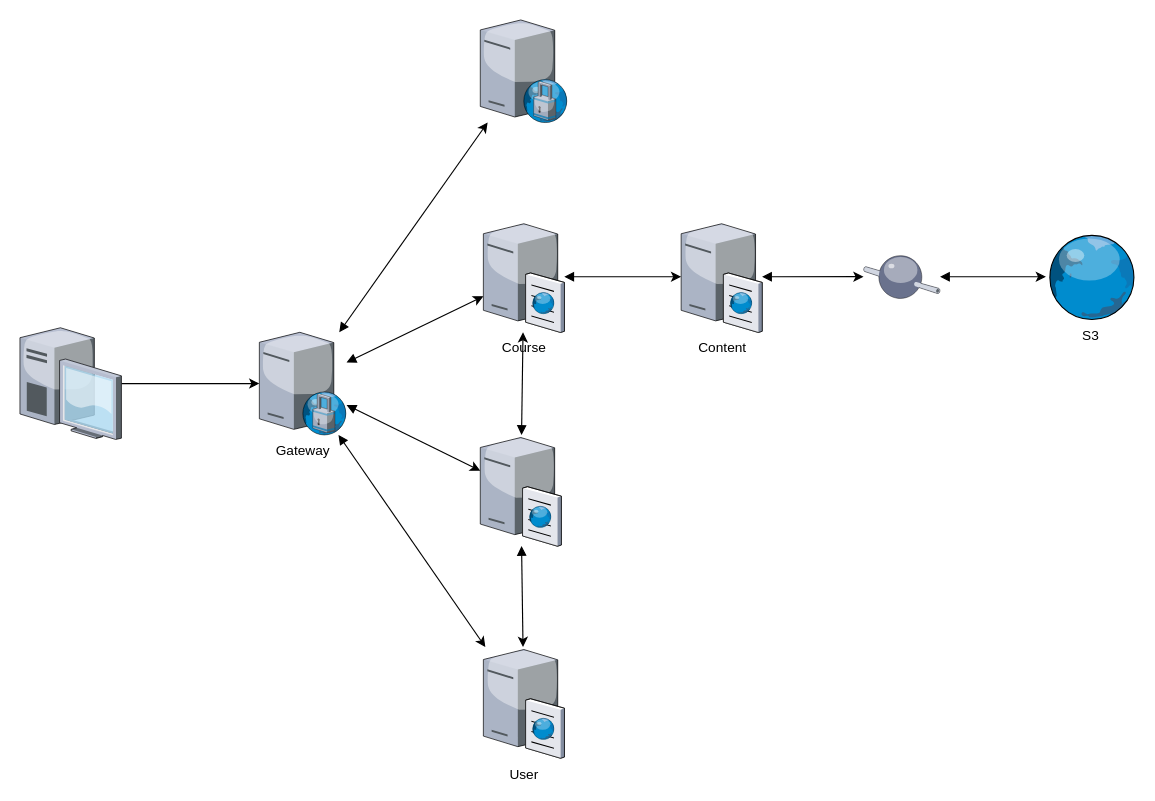
This 1155x801 diagram has some shape labels left out. The box of each missing label's shape, as (x1, y1, x2, y2) in pixels:
assync: (863, 253, 939, 299)
Auth: (480, 19, 567, 122)
Subscription: (480, 434, 561, 545)
